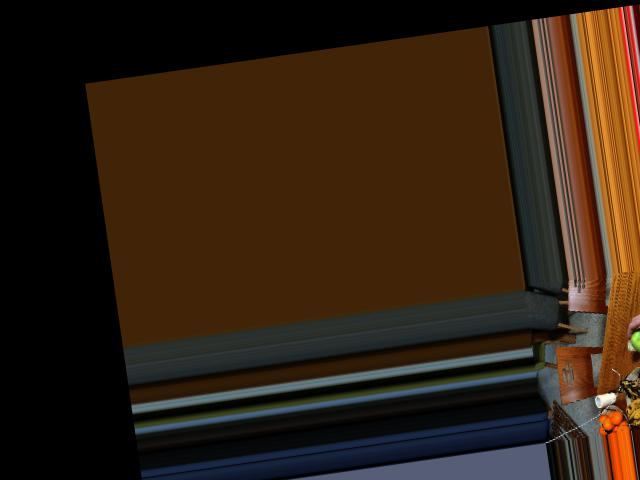apple: (625, 322, 640, 356)
